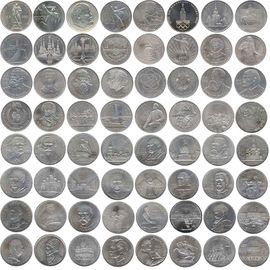coin: (202, 199, 237, 234), (198, 32, 233, 66), (133, 99, 168, 133), (236, 200, 270, 235), (32, 32, 66, 66), (165, 32, 199, 66), (66, 66, 100, 100), (99, 65, 133, 99), (133, 65, 167, 99), (99, 99, 133, 133), (168, 99, 202, 133), (201, 99, 235, 133), (66, 132, 100, 166), (235, 133, 269, 167), (32, 66, 66, 99), (233, 66, 267, 99), (65, 99, 99, 132), (100, 132, 133, 166), (133, 133, 167, 166), (167, 133, 201, 166), (201, 133, 235, 166), (66, 166, 100, 199), (100, 167, 134, 200), (166, 167, 200, 200), (33, 199, 67, 232), (67, 199, 101, 232), (168, 199, 201, 233), (199, 1, 234, 33), (33, 165, 66, 198), (235, 167, 268, 200), (135, 200, 168, 233), (33, 233, 66, 266), (67, 233, 100, 266), (32, 1, 66, 33), (65, 1, 99, 33), (99, 1, 133, 33), (132, 1, 166, 33), (234, 1, 268, 33), (1, 31, 33, 65), (1, 65, 33, 99), (101, 201, 135, 233), (1, 165, 33, 198), (134, 168, 167, 200), (1, 199, 33, 232), (101, 235, 134, 267), (135, 233, 167, 266), (168, 235, 201, 267), (166, 1, 200, 32), (67, 34, 99, 66), (100, 33, 132, 65), (133, 33, 165, 65), (234, 34, 266, 66), (167, 66, 199, 98), (200, 67, 232, 99), (33, 100, 65, 132), (235, 101, 267, 133), (34, 133, 66, 165), (203, 235, 235, 267), (201, 168, 234, 199), (1, 1, 33, 32), (1, 133, 32, 165), (1, 234, 32, 266), (238, 236, 270, 267), (1, 100, 32, 131)
